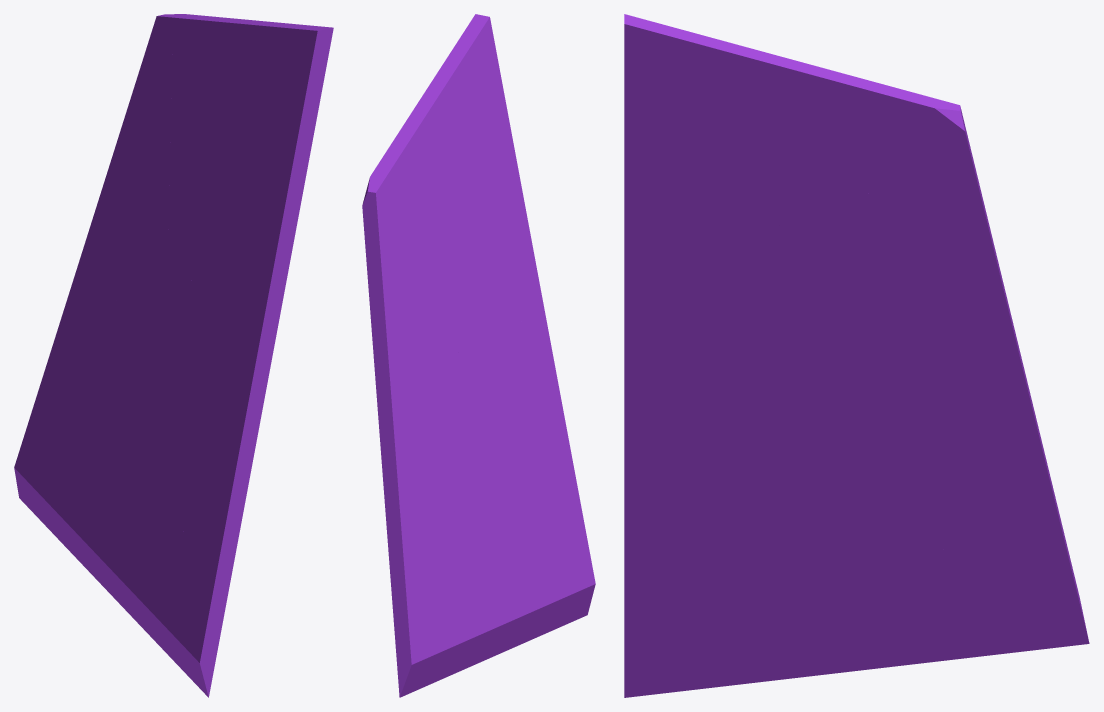
File: Window_2_8_chunks.fbx
The picture shows the model from 3 angles, left to right: view 1: azimuth 30°, elevation 25°; view 2: azimuth 150°, elevation 25°; view 3: azimuth 270°, elevation 25°; orthographic projection. The views are drawn at different scales.
Parts seen in each view (by area): view 1: Window_2_8_6, Window_2_8_14, Window_2_8_9, Window_2_8_10, Window_2_8_3, Window_2_8_12, Window_2_8_7, Window_2_8_11, Window_2_8_8, Window_2_8_15, Window_2_8_1, Window_2_8_4 (+3 smaller); view 2: Window_2_8_6, Window_2_8_14, Window_2_8_3, Window_2_8_11, Window_2_8_9, Window_2_8_12, Window_2_8_7, Window_2_8_10, Window_2_8_8, Window_2_8_4, Window_2_8_15, Window_2_8_1 (+3 smaller); view 3: Window_2_8_6, Window_2_8_9, Window_2_8_14, Window_2_8_11, Window_2_8_3, Window_2_8_7, Window_2_8_13, Window_2_8_8, Window_2_8_15, Window_2_8_12, Window_2_8_4, Window_2_8_0 (+2 smaller).
Boxes of the visible parts, x1=… form: Window_2_8_6: x1=144, y1=255, x2=272, y2=611; Window_2_8_14: x1=109, y1=455, x2=224, y2=697; Window_2_8_9: x1=219, y1=71, x2=325, y2=362; Window_2_8_10: x1=209, y1=26, x2=333, y2=173; Window_2_8_3: x1=44, y1=155, x2=151, y2=372; Window_2_8_12: x1=14, y1=402, x2=114, y2=529; Window_2_8_7: x1=33, y1=249, x2=171, y2=406; Window_2_8_11: x1=171, y1=14, x2=313, y2=137; Window_2_8_8: x1=167, y1=106, x2=225, y2=323; Window_2_8_15: x1=71, y1=396, x2=155, y2=485; Window_2_8_1: x1=137, y1=106, x2=170, y2=264; Window_2_8_4: x1=134, y1=14, x2=185, y2=128; Window_2_8_6: x1=457, y1=315, x2=585, y2=532; Window_2_8_14: x1=486, y1=493, x2=595, y2=647; Window_2_8_3: x1=371, y1=311, x2=445, y2=565; Window_2_8_11: x1=376, y1=34, x2=464, y2=237; Window_2_8_9: x1=465, y1=107, x2=545, y2=322; Window_2_8_12: x1=392, y1=555, x2=490, y2=697; Window_2_8_7: x1=389, y1=338, x2=466, y2=604; Window_2_8_10: x1=447, y1=14, x2=506, y2=227; Window_2_8_8: x1=412, y1=214, x2=513, y2=338; Window_2_8_4: x1=362, y1=172, x2=411, y2=292; Window_2_8_15: x1=431, y1=484, x2=504, y2=560; Window_2_8_1: x1=400, y1=238, x2=451, y2=367; Window_2_8_6: x1=624, y1=315, x2=864, y2=610; Window_2_8_9: x1=624, y1=67, x2=795, y2=355; Window_2_8_14: x1=624, y1=514, x2=859, y2=697; Window_2_8_11: x1=663, y1=34, x2=925, y2=195; Window_2_8_3: x1=867, y1=239, x2=1054, y2=499; Window_2_8_7: x1=840, y1=318, x2=1065, y2=546; Window_2_8_13: x1=810, y1=560, x2=1072, y2=676; Window_2_8_8: x1=718, y1=193, x2=878, y2=336; Window_2_8_15: x1=792, y1=472, x2=1007, y2=564; Window_2_8_12: x1=914, y1=525, x2=1089, y2=645; Window_2_8_4: x1=899, y1=96, x2=986, y2=241; Window_2_8_0: x1=828, y1=103, x2=932, y2=321.
Size of the model in its own units: 224 by 1025 by 579.
